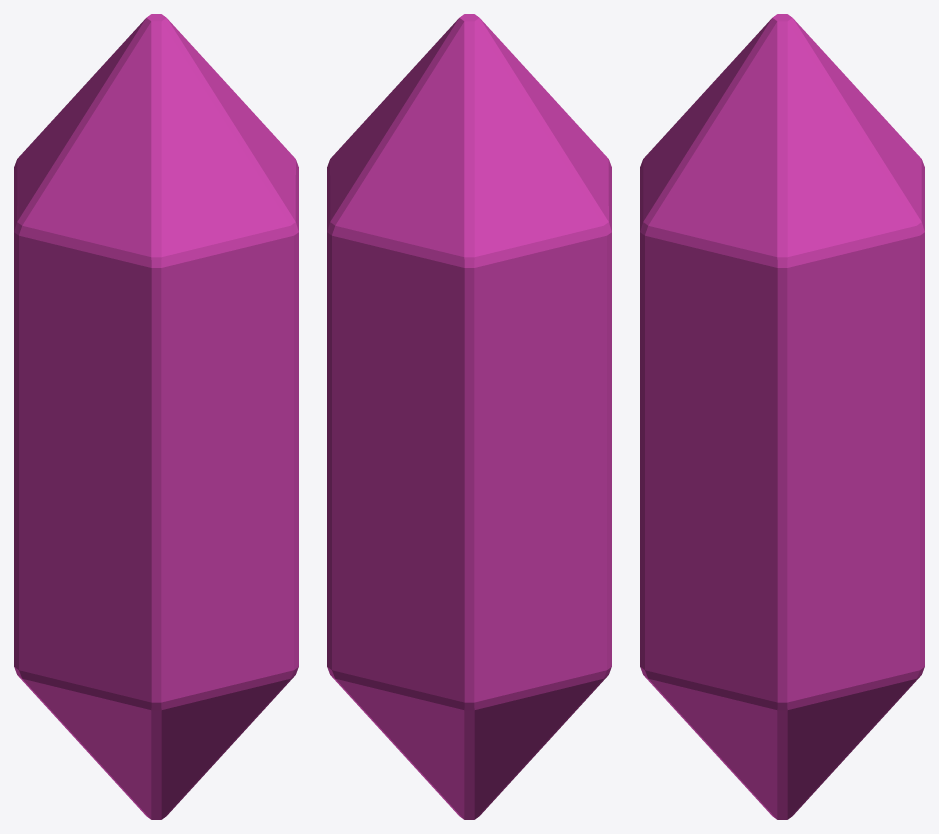
The model's file is quaternius-rpg-items-crystal-2.glb.
The picture shows the model from 3 angles, left to right: view 1: azimuth 30°, elevation 25°; view 2: azimuth 150°, elevation 25°; view 3: azimuth 270°, elevation 25°; orthographic projection.
Parts seen in each view (by area): view 1: Crystal2; view 2: Crystal2; view 3: Crystal2.
Part boxes in pixels (x1,y1,x2,y2): Crystal2: [14, 14, 298, 819]; Crystal2: [327, 14, 611, 819]; Crystal2: [640, 14, 924, 819].
Size of the model in its own units: 0.3287 by 0.8957 by 0.2896.
